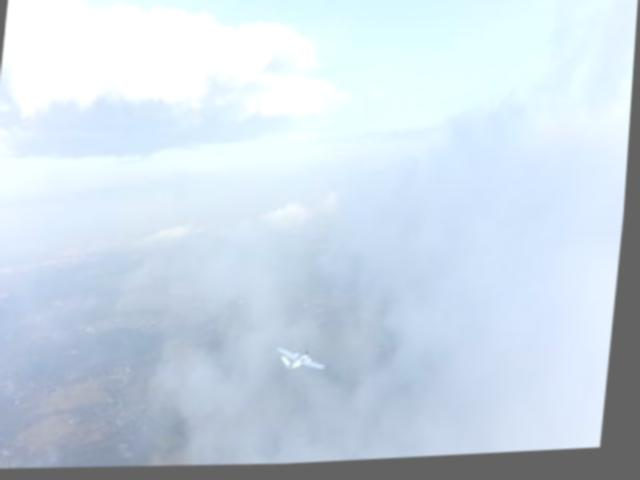uav: (278, 342, 334, 378)
